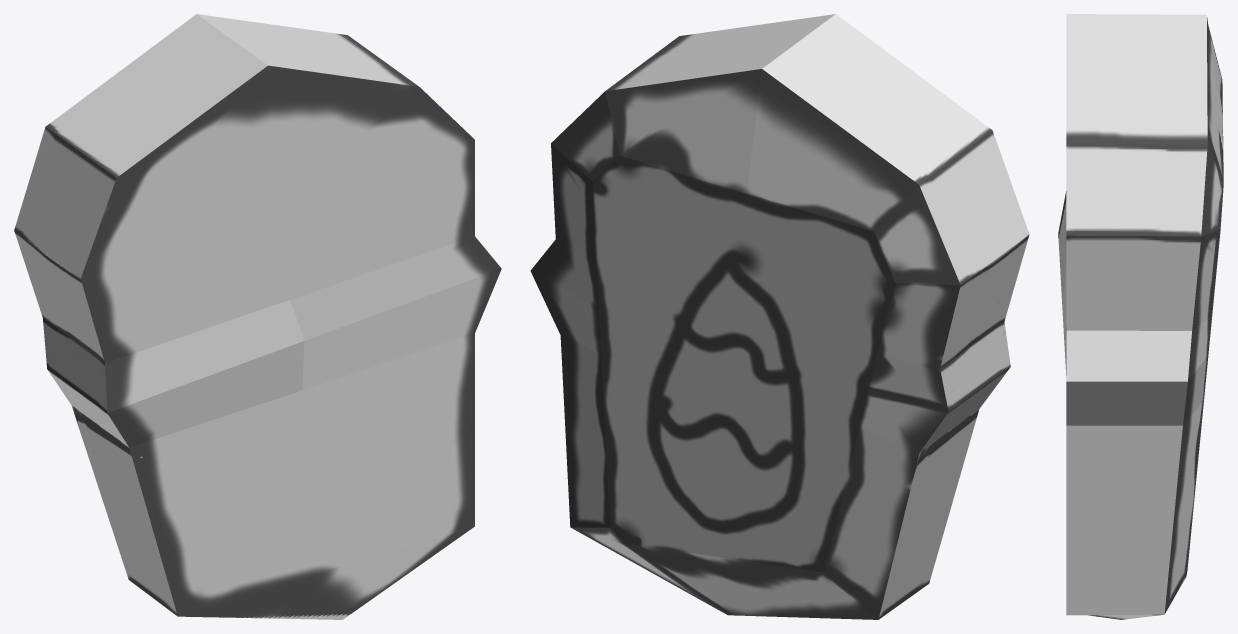
File: Stone2.fbx
3 views of the same model, side by side, from view 1: azimuth 30°, elevation 25°; view 2: azimuth 150°, elevation 25°; view 3: azimuth 270°, elevation 25° (orthographic). The views are drawn at different scales.
Visible parts, largest first — view 1: Stone2; view 2: Stone2; view 3: Stone2.
Part boxes in pixels (bbox=[...]): Stone2: bbox=[14, 14, 501, 619]; Stone2: bbox=[530, 14, 1029, 619]; Stone2: bbox=[1058, 14, 1223, 619].
Size of the model in its own units: 46.59 by 61.3 by 16.15.
Materials: 1 (1 with a texture image).
